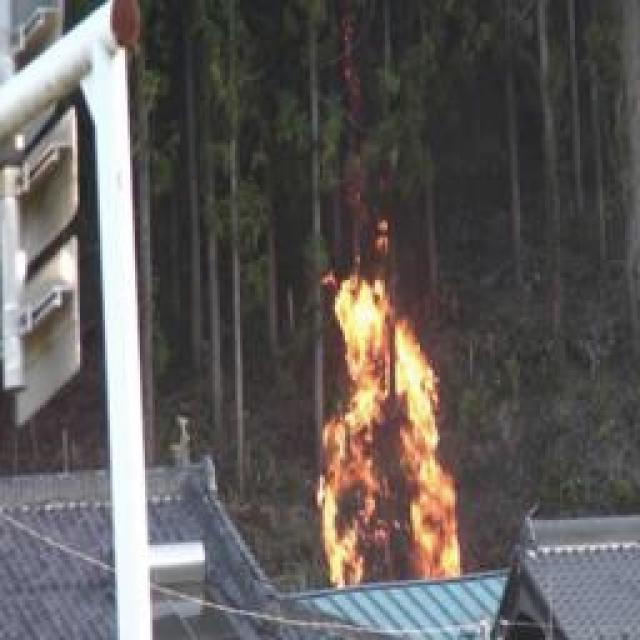Fire: (307, 262, 463, 586)
